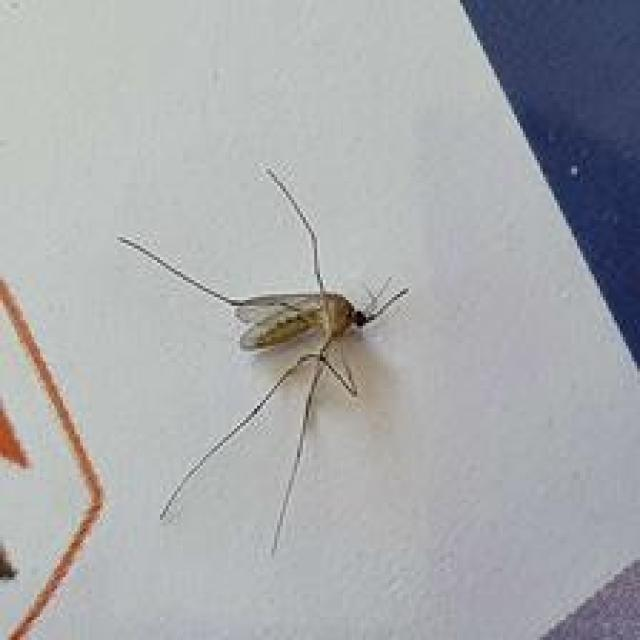Culex: (116, 164, 410, 556)
